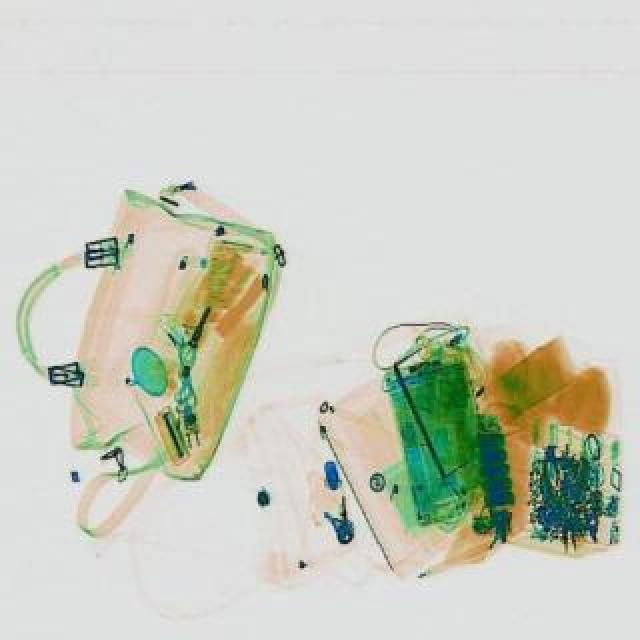wrench: (538, 454, 598, 554)
